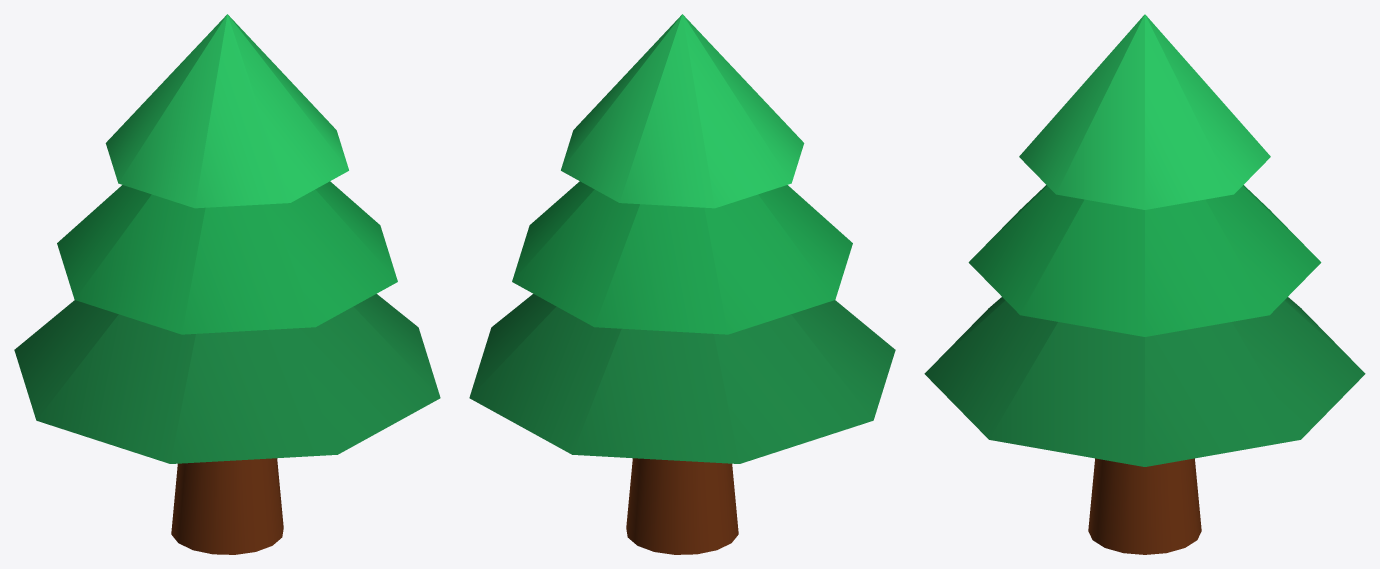
File: model-tripo-1794294578911.glb
3 renders of one model, left to right at view 1: azimuth 30°, elevation 25°; view 2: azimuth 150°, elevation 25°; view 3: azimuth 270°, elevation 25°, orthographic.
Size of the model in its own units: 0.7 by 0.905 by 0.7.
